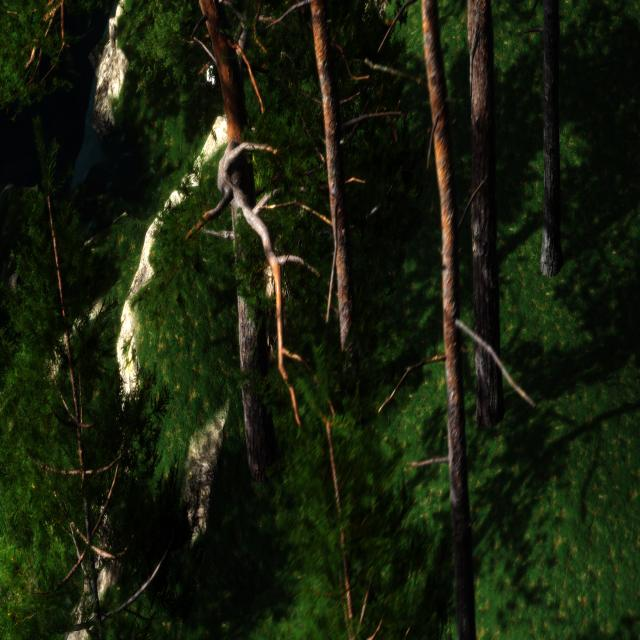Human: (201, 0, 218, 89)
